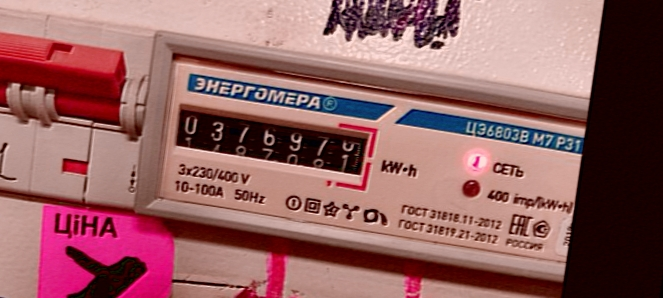0: (184, 113, 201, 137)
1: (338, 153, 353, 174)
3: (210, 120, 228, 144)
6: (262, 124, 280, 149)
7: (235, 121, 253, 146), (315, 134, 332, 159)
9: (287, 129, 305, 154)
screen: (163, 94, 382, 197)
